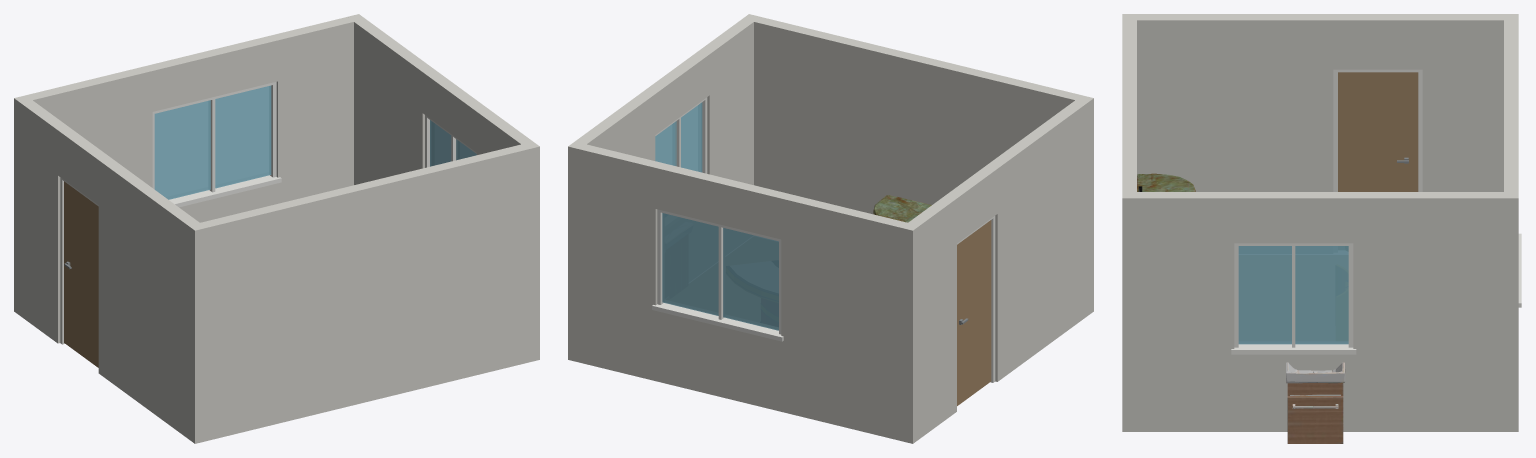
File: layoutgpt.glb
The picture shows the model from 3 angles, left to right: view 1: azimuth 30°, elevation 25°; view 2: azimuth 150°, elevation 25°; view 3: azimuth 270°, elevation 25°; orthographic projection. The views are drawn at different scales.
Parts seen in each view (by area): view 1: wall|scenesmith_091__R00|0, wall|scenesmith_091__R00|2, wall|scenesmith_091__R00|1, wall|scenesmith_091__R00|3, wall|scenesmith_091__R00|1 Window 0 | glazing, wall|scenesmith_091__R00|2 Door 0 | wood leaf, wall|scenesmith_091__R00|1 Window 0 | jamb, wall|scenesmith_091__R00|3 Window 0 | glazing, wall|scenesmith_091__R00|2 Door 0 | jamb; view 2: wall|scenesmith_091__R00|1, wall|scenesmith_091__R00|0, wall|scenesmith_091__R00|2, wall|scenesmith_091__R00|3, wall|scenesmith_091__R00|1 Window 0 | glazing, wall|scenesmith_091__R00|2 Door 0 | wood leaf, wall|scenesmith_091__R00|1 Window 0 | jamb, wall|scenesmith_091__R00|3 Window 0 | glazing, scenesmith_091__R00_0, wall|scenesmith_091__R00|2 Door 0 | jamb, wall|scenesmith_091__R00|3 Window 0 | jamb; view 3: wall|scenesmith_091__R00|3, wall|scenesmith_091__R00|2, wall|scenesmith_091__R00|3 Window 0 | glazing, wall|scenesmith_091__R00|2 Door 0 | wood leaf, wall|scenesmith_091__R00|1, scenesmith_091__R00_3, wall|scenesmith_091__R00|3 Window 0 | jamb, wall|scenesmith_091__R00|0, wall|scenesmith_091__R00|2 Door 0 | jamb, scenesmith_091__R00_0.
Part boxes in pixels (x1=…): wall|scenesmith_091__R00|0: x1=195, y1=144, x2=539, y2=443; wall|scenesmith_091__R00|2: x1=14, y1=95, x2=206, y2=443; wall|scenesmith_091__R00|1: x1=14, y1=17, x2=353, y2=315; wall|scenesmith_091__R00|3: x1=347, y1=14, x2=539, y2=361; wall|scenesmith_091__R00|1 Window 0 | glazing: x1=154, y1=85, x2=271, y2=199; wall|scenesmith_091__R00|2 Door 0 | wood leaf: x1=64, y1=181, x2=98, y2=367; wall|scenesmith_091__R00|1 Window 0 | jamb: x1=152, y1=82, x2=281, y2=207; wall|scenesmith_091__R00|3 Window 0 | glazing: x1=430, y1=120, x2=476, y2=166; wall|scenesmith_091__R00|2 Door 0 | jamb: x1=60, y1=177, x2=98, y2=344; wall|scenesmith_091__R00|1: x1=579, y1=144, x2=919, y2=443; wall|scenesmith_091__R00|0: x1=754, y1=17, x2=1081, y2=214; wall|scenesmith_091__R00|2: x1=901, y1=95, x2=1093, y2=443; wall|scenesmith_091__R00|3: x1=568, y1=14, x2=760, y2=362; wall|scenesmith_091__R00|1 Window 0 | glazing: x1=662, y1=213, x2=778, y2=330; wall|scenesmith_091__R00|2 Door 0 | wood leaf: x1=957, y1=220, x2=991, y2=405; wall|scenesmith_091__R00|1 Window 0 | jamb: x1=652, y1=209, x2=783, y2=341; wall|scenesmith_091__R00|3 Window 0 | glazing: x1=655, y1=102, x2=702, y2=172; scenesmith_091__R00_0: x1=873, y1=195, x2=931, y2=222; wall|scenesmith_091__R00|2 Door 0 | jamb: x1=957, y1=216, x2=995, y2=382; wall|scenesmith_091__R00|3 Window 0 | jamb: x1=655, y1=97, x2=707, y2=173; wall|scenesmith_091__R00|3: x1=1122, y1=192, x2=1518, y2=431; wall|scenesmith_091__R00|2: x1=1122, y1=14, x2=1518, y2=191; wall|scenesmith_091__R00|3 Window 0 | glazing: x1=1238, y1=246, x2=1348, y2=344; wall|scenesmith_091__R00|2 Door 0 | wood leaf: x1=1338, y1=72, x2=1418, y2=191; wall|scenesmith_091__R00|1: x1=1504, y1=20, x2=1518, y2=431; scenesmith_091__R00_3: x1=1286, y1=362, x2=1345, y2=443; wall|scenesmith_091__R00|3 Window 0 | jamb: x1=1231, y1=243, x2=1356, y2=354; wall|scenesmith_091__R00|0: x1=1122, y1=20, x2=1136, y2=191; wall|scenesmith_091__R00|2 Door 0 | jamb: x1=1333, y1=69, x2=1422, y2=191; scenesmith_091__R00_0: x1=1137, y1=173, x2=1195, y2=191.
Bounding box in the file's own units: 4.75 × 2.61 × 4.03.
11 materials, 5 textured.
